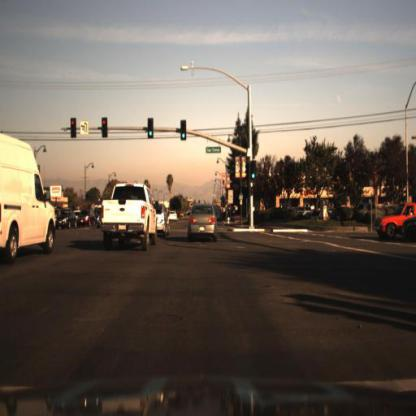car: (1, 129, 59, 274), (97, 173, 159, 260), (181, 197, 223, 252), (375, 200, 403, 243), (11, 189, 38, 231), (76, 208, 99, 231), (166, 205, 182, 223)
trafficLight: (100, 116, 108, 144)
trafficLight-Green: (177, 114, 191, 146), (251, 163, 259, 189), (147, 123, 155, 146)
trafficLight-RedLeft: (69, 116, 79, 142)
